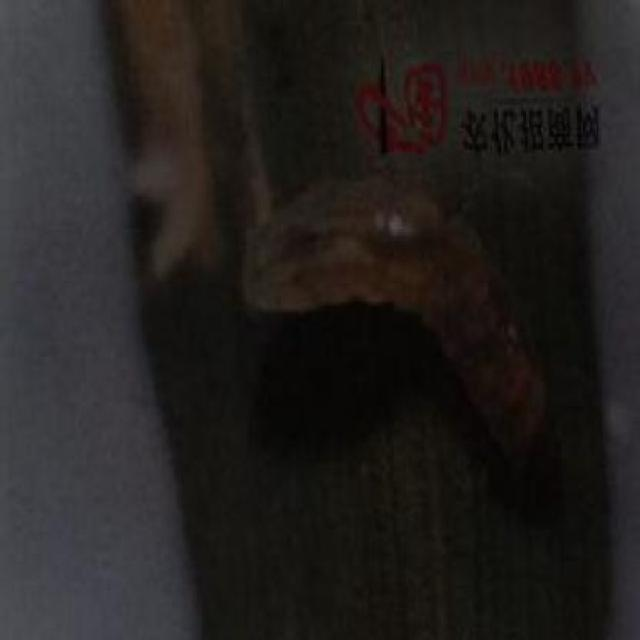whorl-maggot: (239, 174, 552, 473)
